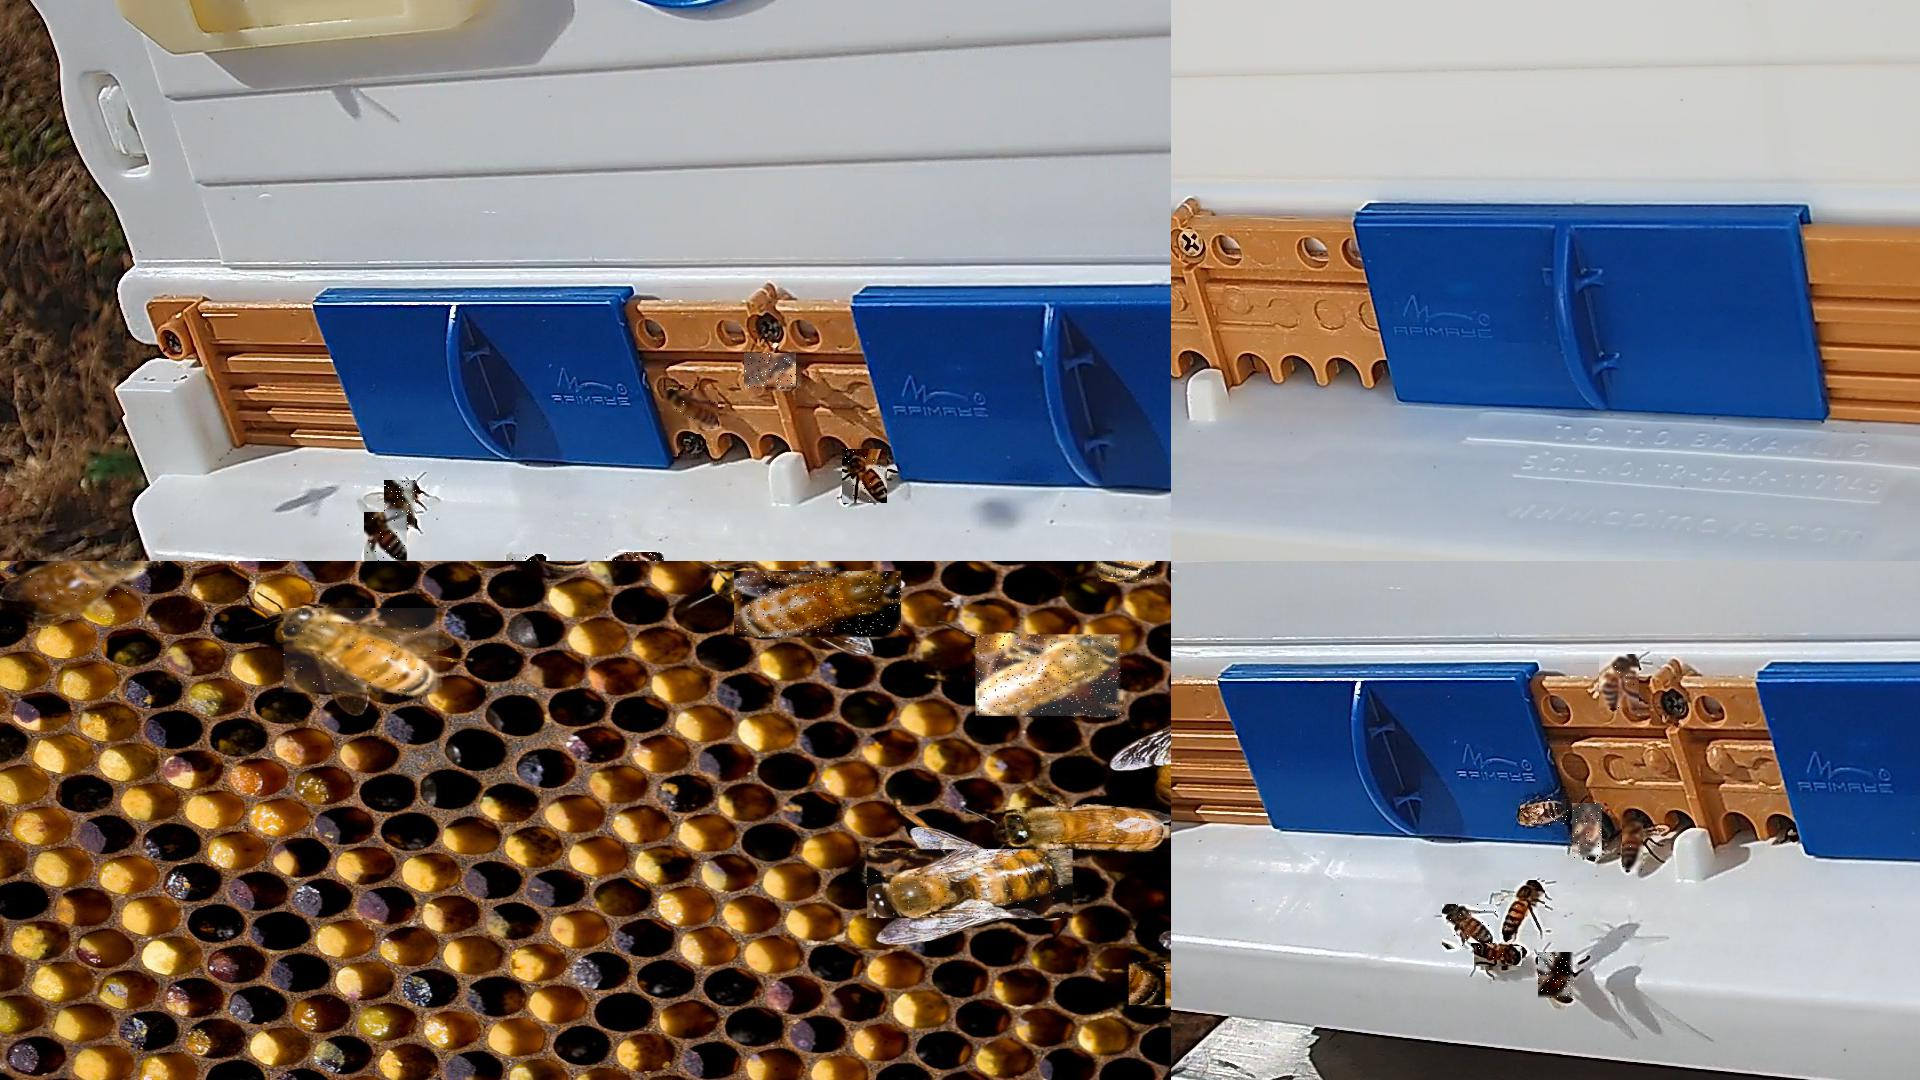bee: (285, 608, 443, 694), (977, 634, 1125, 717), (735, 571, 902, 638), (1006, 807, 1170, 851), (18, 560, 142, 615), (1501, 881, 1547, 940), (1443, 905, 1499, 949), (843, 450, 889, 504), (1600, 654, 1640, 711), (364, 512, 409, 560), (665, 390, 719, 430), (744, 353, 796, 390), (1539, 953, 1576, 1001), (1130, 964, 1171, 1006), (385, 481, 418, 530), (1520, 799, 1571, 825), (1097, 560, 1154, 583), (1622, 819, 1644, 873), (1474, 947, 1523, 971), (678, 435, 707, 459), (607, 553, 666, 560)
drone: (868, 849, 1079, 919)
pollenbee: (1572, 804, 1604, 860)
